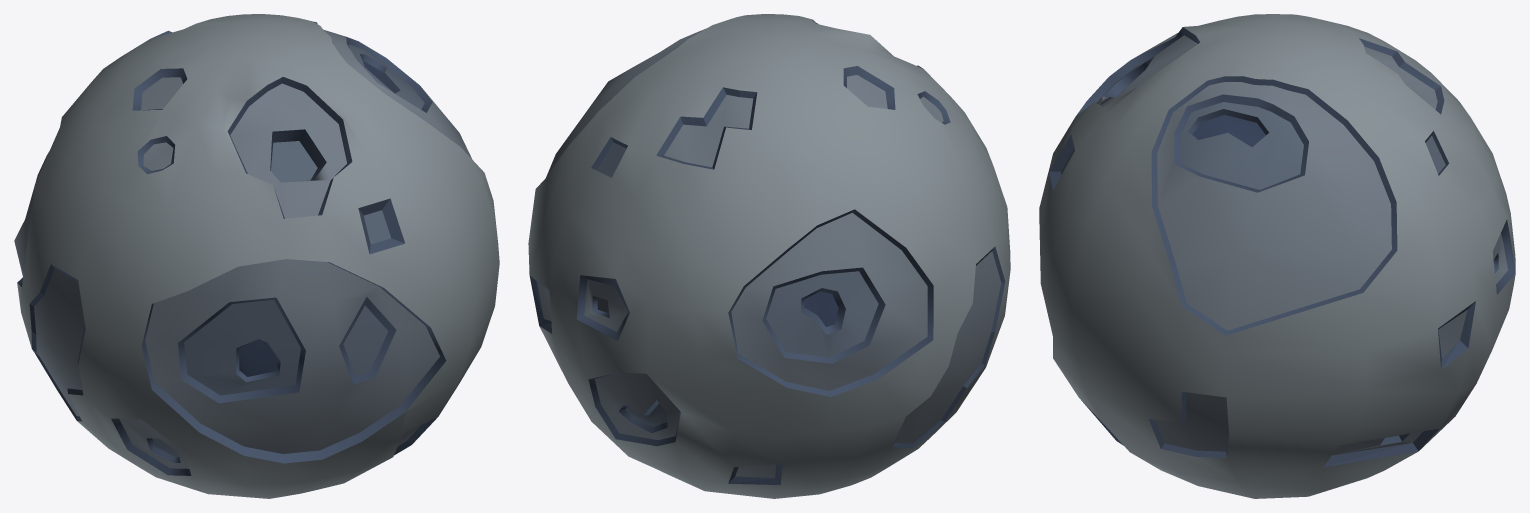
File: planet_moon.FBX
3 views of the same model, side by side, from view 1: azimuth 30°, elevation 25°; view 2: azimuth 150°, elevation 25°; view 3: azimuth 270°, elevation 25° (orthographic).
Parts seen in each view (by area): view 1: Sphere001; view 2: Sphere001; view 3: Sphere001.
Boxes of the visible parts, x1,y1,x2,y2 form: Sphere001: [14, 14, 499, 498]; Sphere001: [528, 14, 1010, 498]; Sphere001: [1039, 14, 1515, 498].
Bounding box in the file's own units: 362 × 358 × 359.
